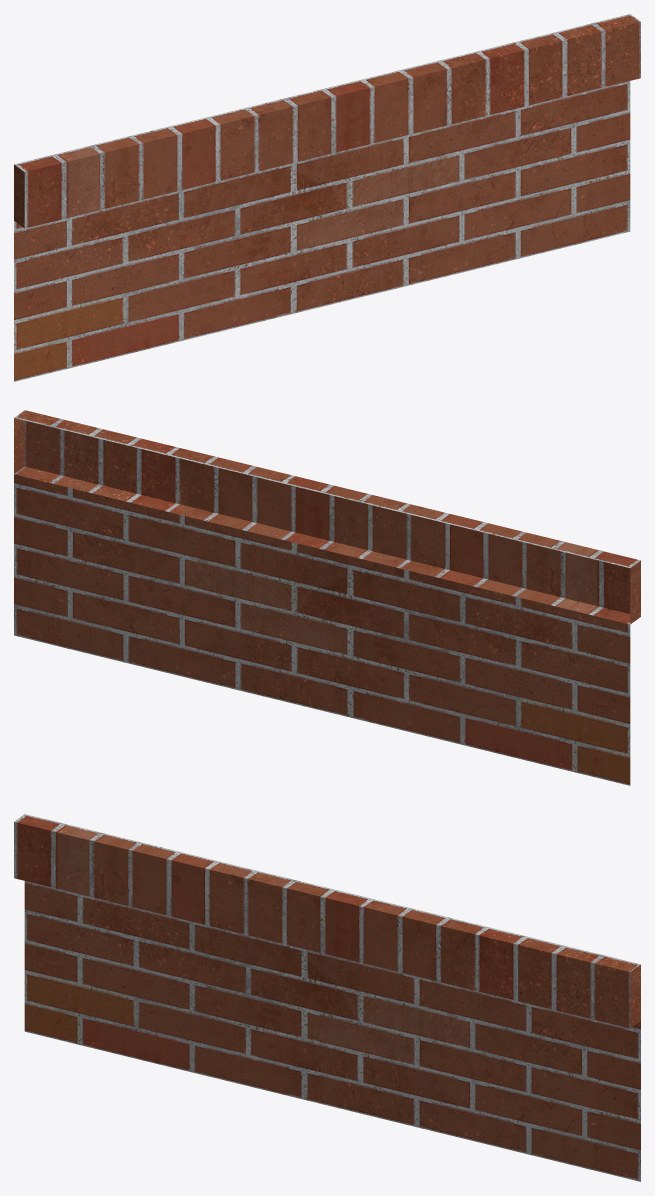
Rendered from House_05_Wall_03.fbx.
3 renders of one model, top to bottom at view 1: azimuth 30°, elevation 25°; view 2: azimuth 150°, elevation 25°; view 3: azimuth 330°, elevation 25°, orthographic.
Parts seen in each view (by area): view 1: House_05_Wall_03; view 2: House_05_Wall_03; view 3: House_05_Wall_03.
Part boxes in pixels (left/top/right/bottom): House_05_Wall_03: left=14, top=14, right=640, bottom=381; House_05_Wall_03: left=14, top=410, right=640, bottom=785; House_05_Wall_03: left=14, top=814, right=640, bottom=1181.
Bounding box in the file's own units: 200 × 67.48 × 6.03.
